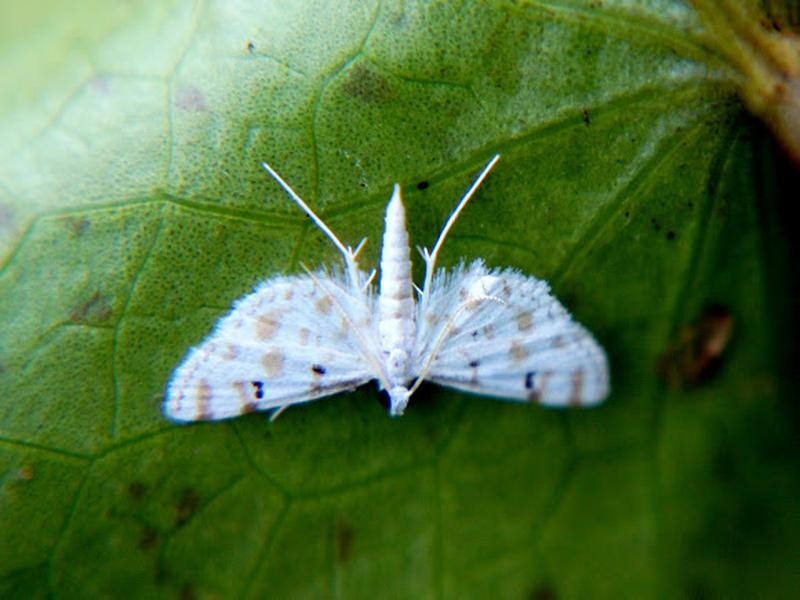Rice_case_worm: (113, 196, 632, 458)
